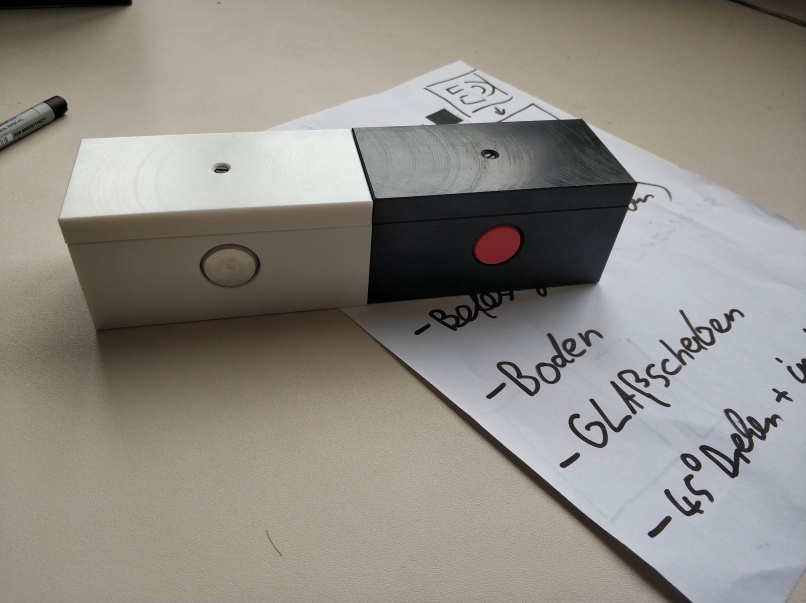black+black+red: (348, 113, 640, 308)
white+white+silver: (55, 126, 375, 333)
